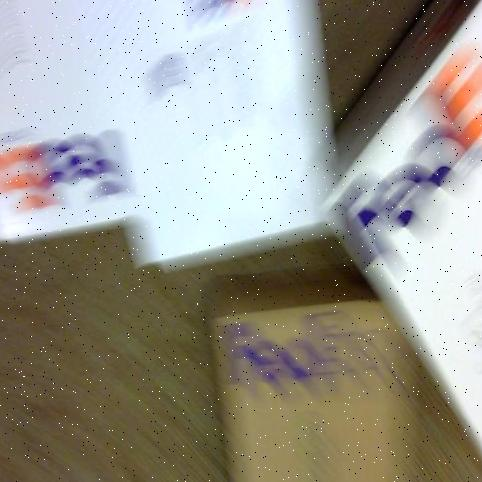Amazon: (328, 9, 482, 431), (0, 0, 145, 240)
